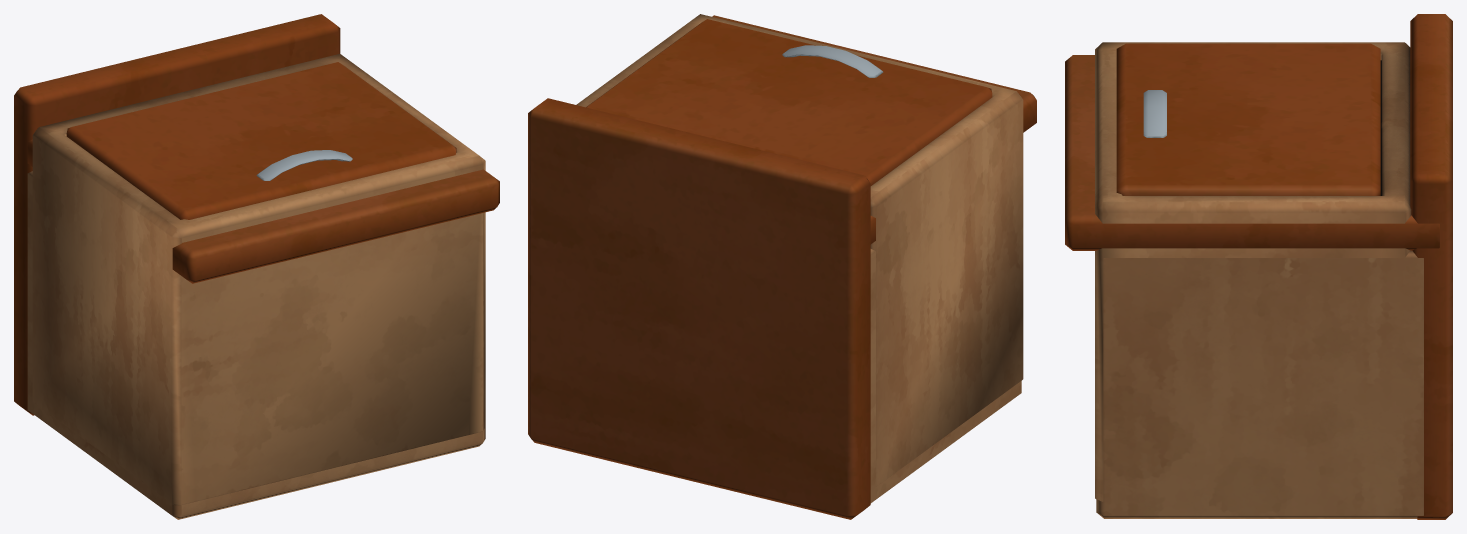
Rendered from ContainerCounter_Visual.glb.
3 renders of one model, left to right at view 1: azimuth 30°, elevation 25°; view 2: azimuth 150°, elevation 25°; view 3: azimuth 270°, elevation 25°, orthographic. The views are drawn at different scales.
Parts seen in each view (by area): view 1: Counter_solid, Single_door; view 2: Counter_solid, Single_door; view 3: Counter_solid, Single_door.
Boxes of the visible parts, x1,y1,x2,y2 form: Counter_solid: (14, 14, 499, 519); Single_door: (66, 62, 456, 219); Counter_solid: (528, 14, 1036, 519); Single_door: (586, 19, 992, 185); Counter_solid: (1065, 14, 1452, 519); Single_door: (1116, 43, 1380, 195).
Bounding box in the file's own units: 1.49 × 1.44 × 1.46.
2 materials, 1 textured.
